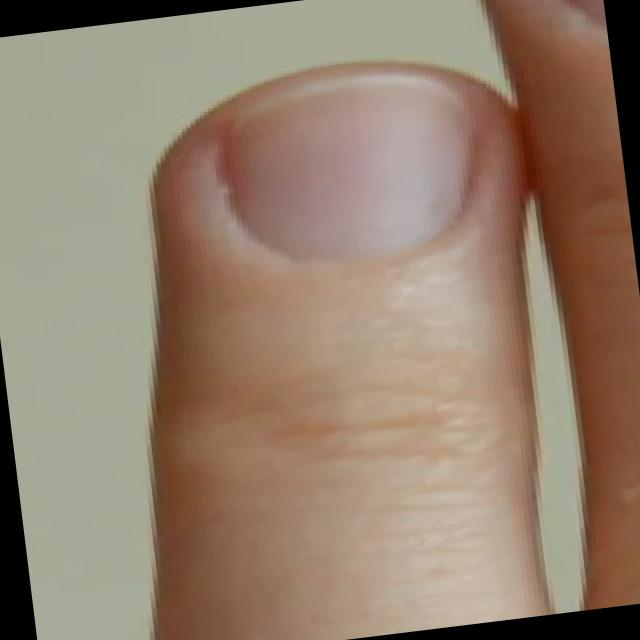Nail: (225, 71, 469, 259)
